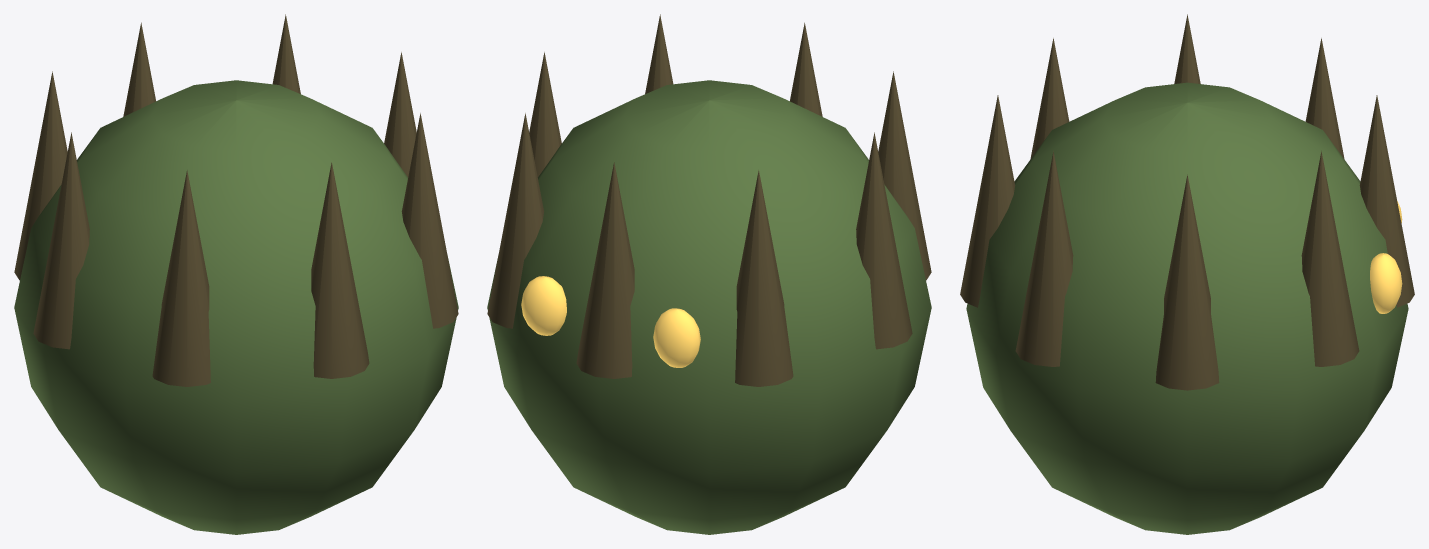
The model's file is thornling.glb.
3 views of the same model, side by side, from view 1: azimuth 30°, elevation 25°; view 2: azimuth 150°, elevation 25°; view 3: azimuth 270°, elevation 25° (orthographic).
Visible parts, largest first — view 1: body, thorn (×8); view 2: body, thorn (×8), eye (×2); view 3: body, thorn (×8), eye.
Part boxes in pixels (<box>): body: <box>14,80,458,534</box>; thorn (×8): <box>14,14,458,386</box>; body: <box>487,80,931,534</box>; thorn (×8): <box>487,14,931,386</box>; eye (×2): <box>521,276,700,367</box>; body: <box>966,82,1408,534</box>; thorn (×8): <box>960,14,1414,390</box>; eye: <box>1370,253,1402,313</box>.
Size of the model in its own units: 0.72 by 0.735 by 0.72.
